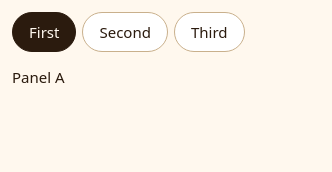
Tabs › shows one panel at a time and switches on click
Expected: the text "Panel A" is shown, [12,67,65,87]
Expected: the text "Panel B" is not shown
Click the tab "Second". click: (125, 32)
box: [82,12,168,52]
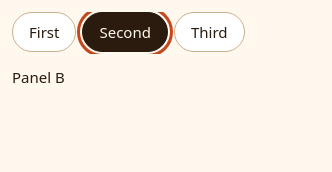
Now the text "Panel B" is shown, box [12,67,65,87]
